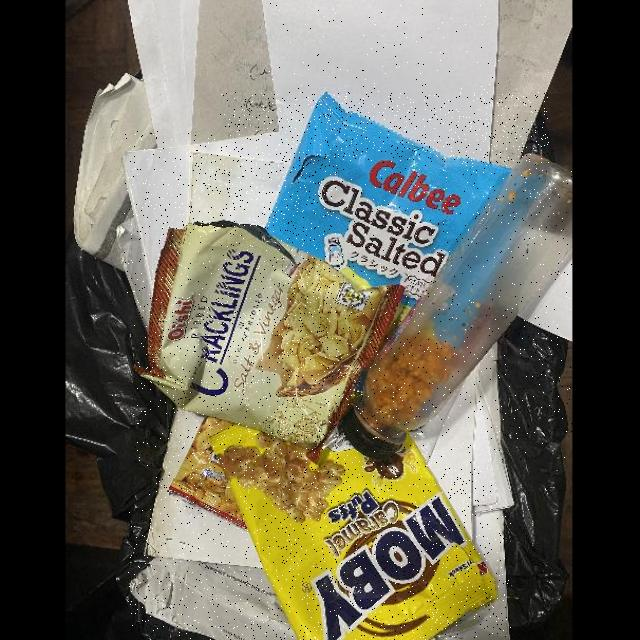paper: (128, 510, 511, 640), (263, 0, 499, 180), (124, 132, 279, 296), (146, 406, 265, 568), (189, 151, 291, 228)
plastic: (340, 163, 572, 461)
wrapper: (219, 93, 549, 416), (133, 221, 406, 466), (207, 424, 497, 640), (166, 416, 249, 532)
